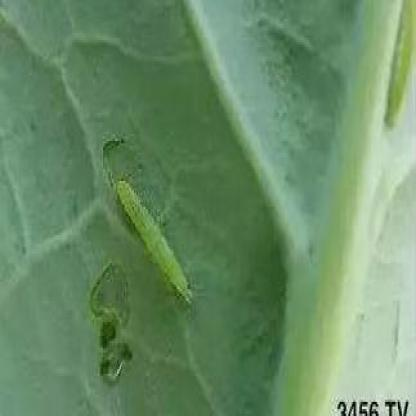armyworm: (101, 158, 206, 322)
